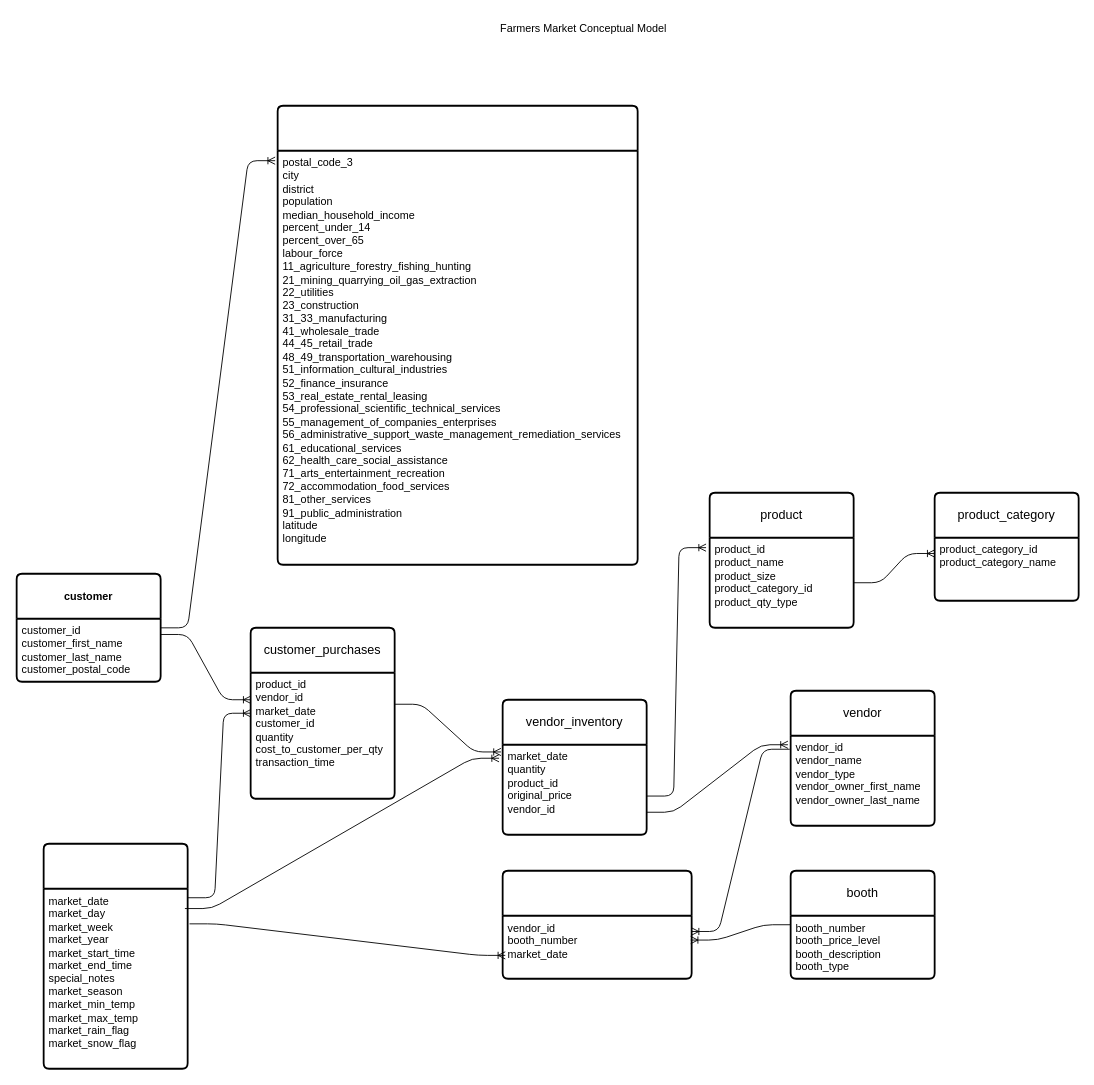
This 1094x1085 diagram has some shape labels left out. The shapes that lost their labels are listed below. From the top down, each one's box as (x1, y1, x2, y2) in pixels, then its label:
(276, 104, 638, 565): postal_data
(501, 869, 692, 979): vendor_booth_assignments
(42, 842, 188, 1069): market_date_info
